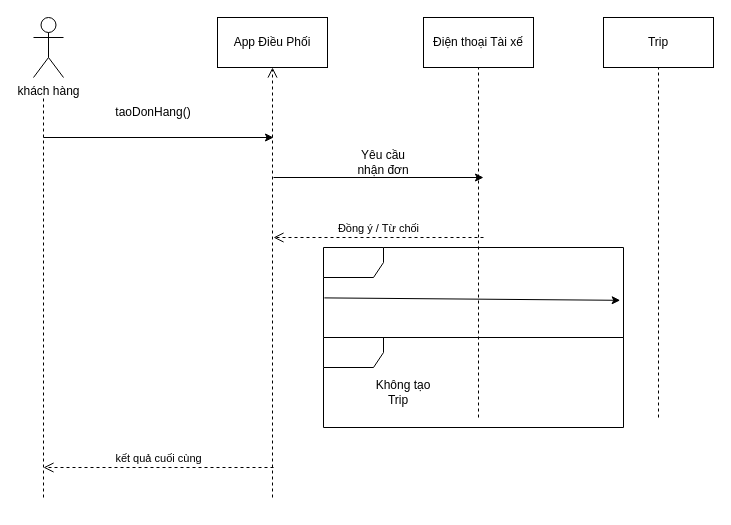
This 731x525 diagram has some shape labels left out. The box of each missing label's shape, as (x1, y1, x2, y2) in pixels:
[Tài xế từ chối]: (322, 336, 624, 428)
[Tài xế đồng ý]: (322, 246, 624, 338)
